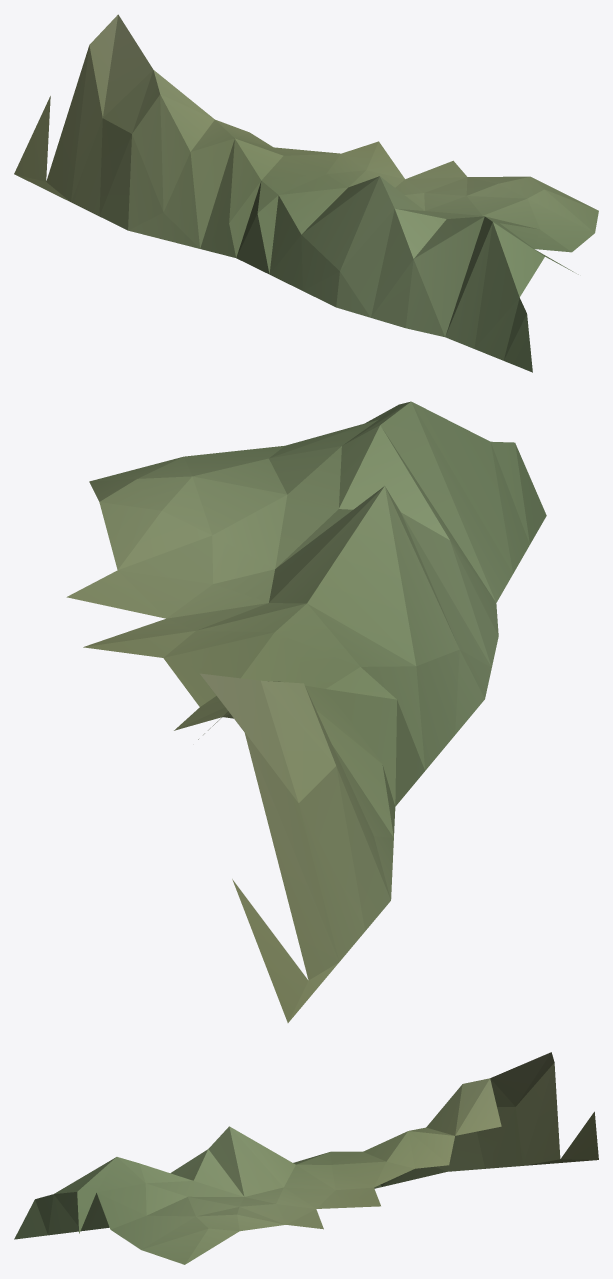
3 renders of one model, top to bottom at view 1: azimuth 30°, elevation 25°; view 2: azimuth 150°, elevation 25°; view 3: azimuth 270°, elevation 25°, orthographic. The views are drawn at different scales.
Parts seen in each view (by area): view 1: 西高止山地; view 2: 西高止山地; view 3: 西高止山地.
Boxes of the visible parts, x1,y1,x2,y2 form: 西高止山地: (14, 14, 598, 372); 西高止山地: (66, 401, 546, 1022); 西高止山地: (14, 1052, 598, 1264).
Bounding box in the file's own units: 5.41 × 2.38 × 8.93.
